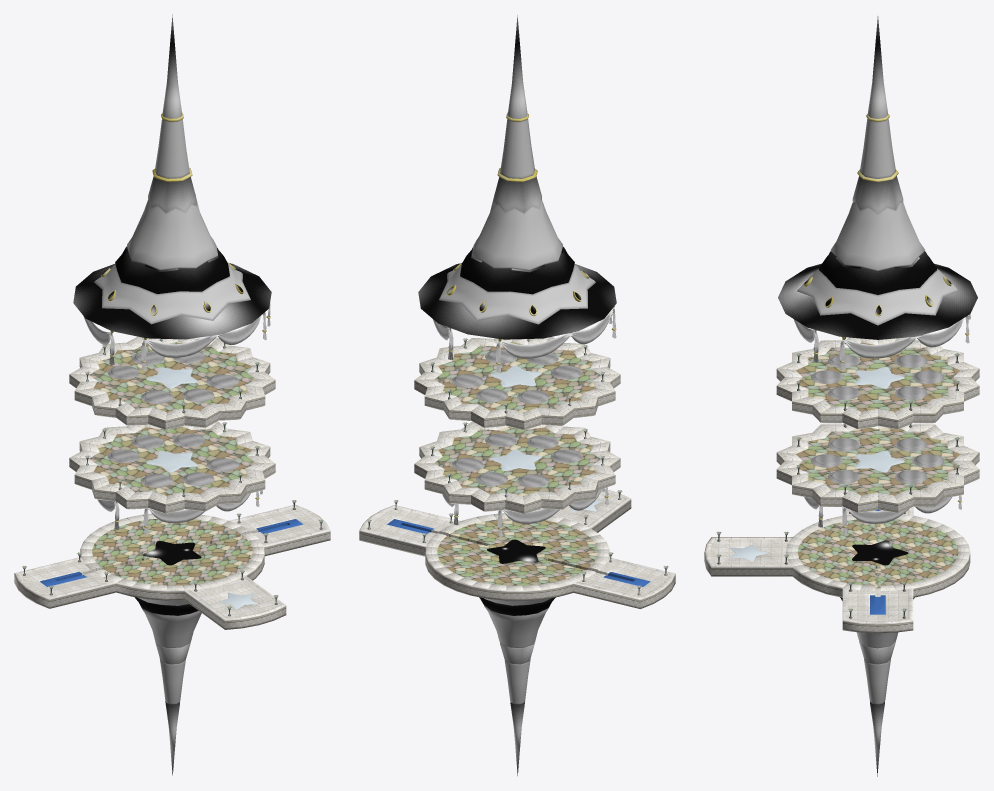
The model's file is MarioFacelessShipPlanet.fbx.
The picture shows the model from 3 angles, left to right: view 1: azimuth 30°, elevation 25°; view 2: azimuth 150°, elevation 25°; view 3: azimuth 270°, elevation 25°; orthographic projection.
Visible parts, largest first — view 1: HubworldPlanetNEW; view 2: HubworldPlanetNEW; view 3: HubworldPlanetNEW.
Boxes of the visible parts, left/top/right/bottom form: HubworldPlanetNEW: left=14, top=14, right=330, bottom=775; HubworldPlanetNEW: left=359, top=15, right=675, bottom=775; HubworldPlanetNEW: left=704, top=16, right=979, bottom=776.
Size of the model in its own units: 440000 by 1093514 by 357269.
